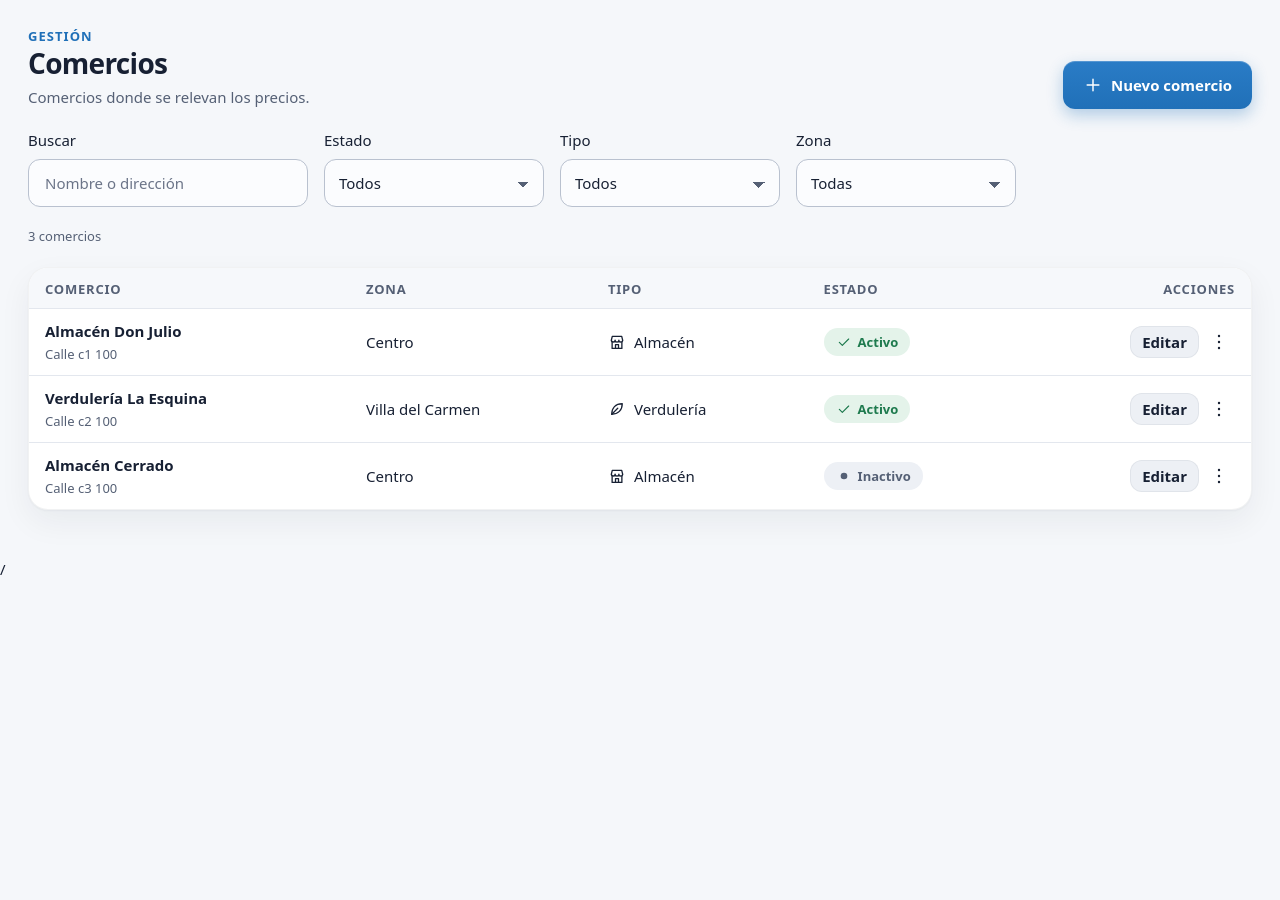
create and edit comercio › validates, creates and closes
Click the button "Nuevo comercio" at (1158, 85), box [1063,61,1252,109]
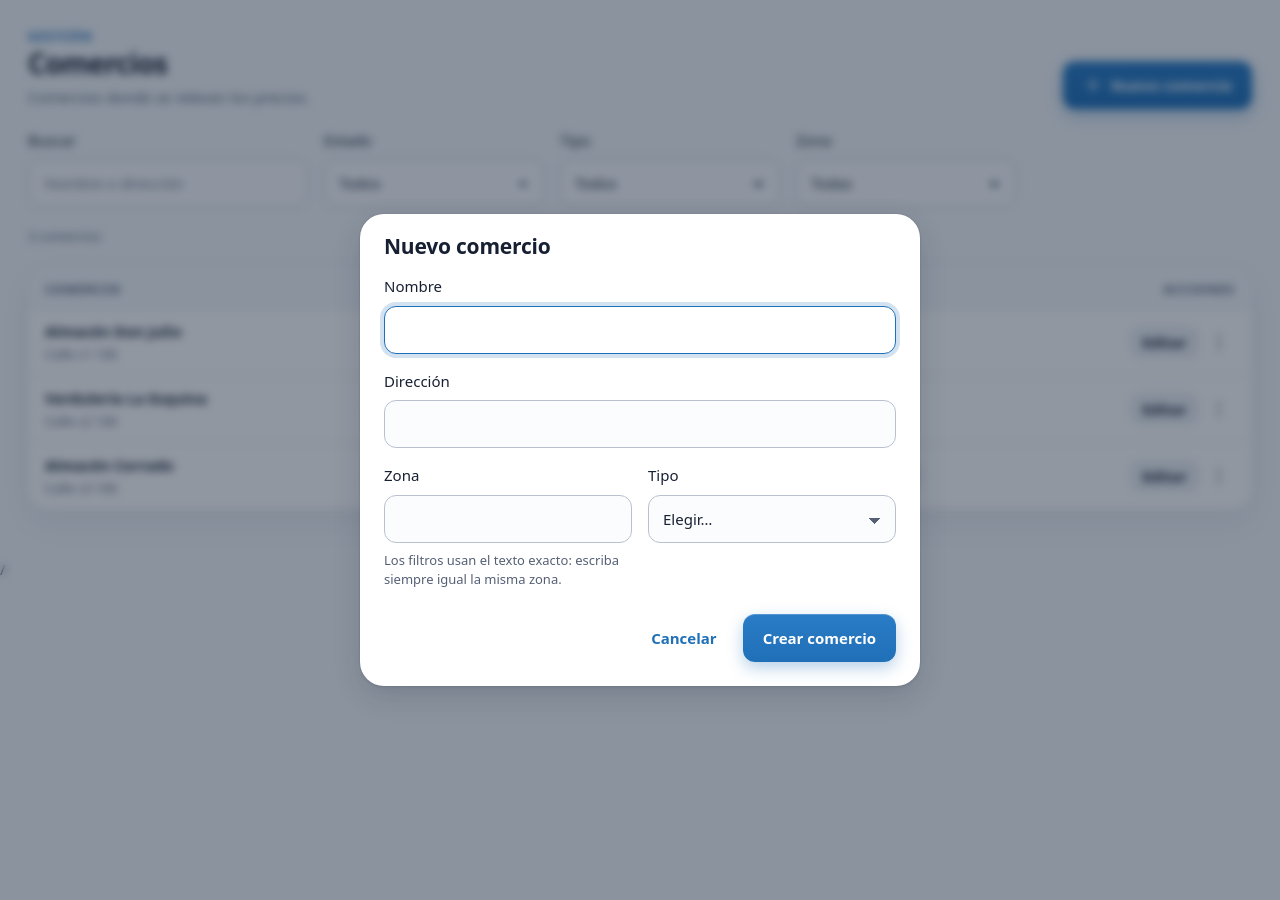
Click the button "Crear comercio" at (819, 638), box [743,614,896,662]
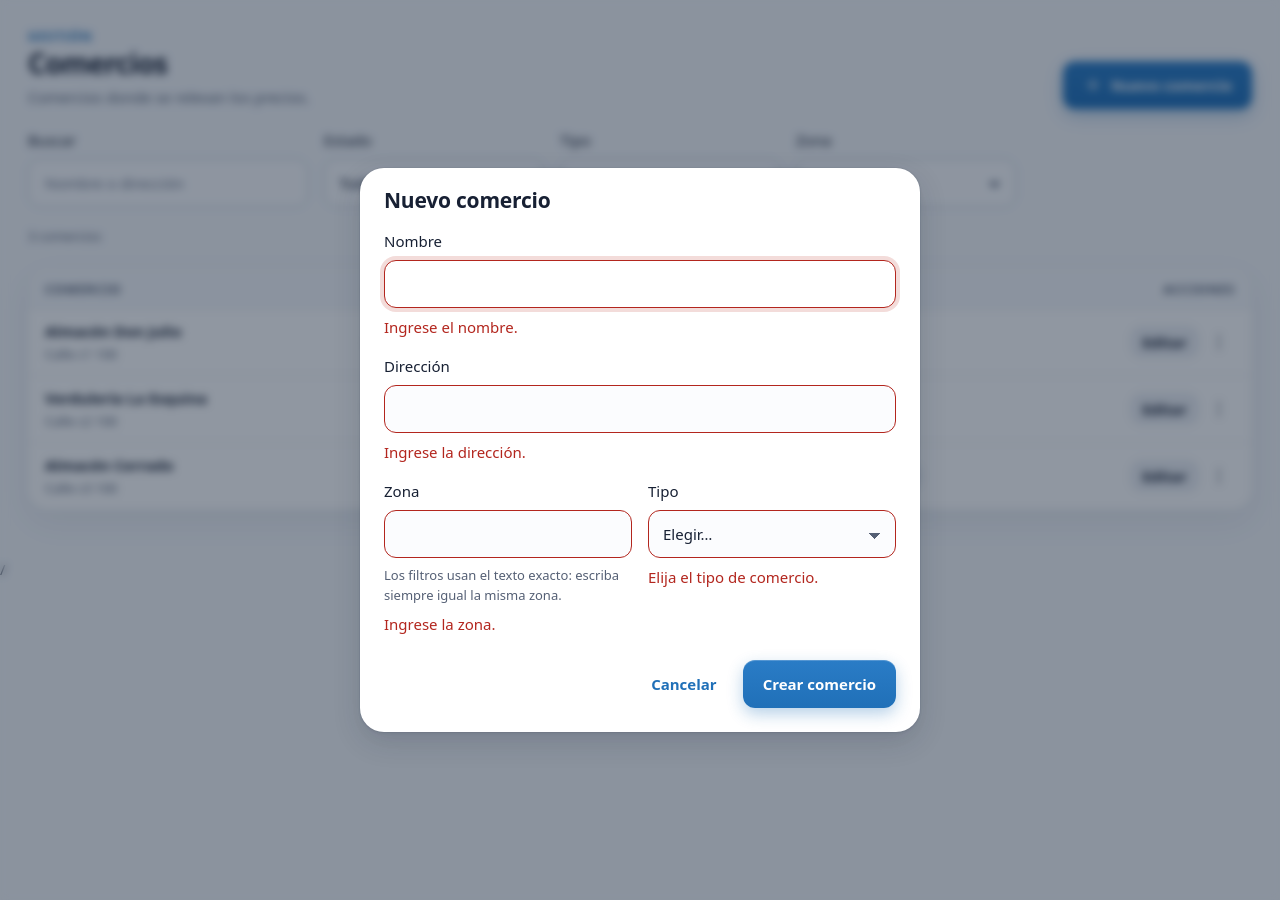
Expected: the text "Ingrese el nombre." is shown, [384,317,518,337]
Type " Kiosco Sur " into the field labelled "Nombre" at (640, 284), box [384,260,896,308]
Type "Sarmiento 10" into the field labelled "Dirección" at (640, 409), box [384,385,896,433]
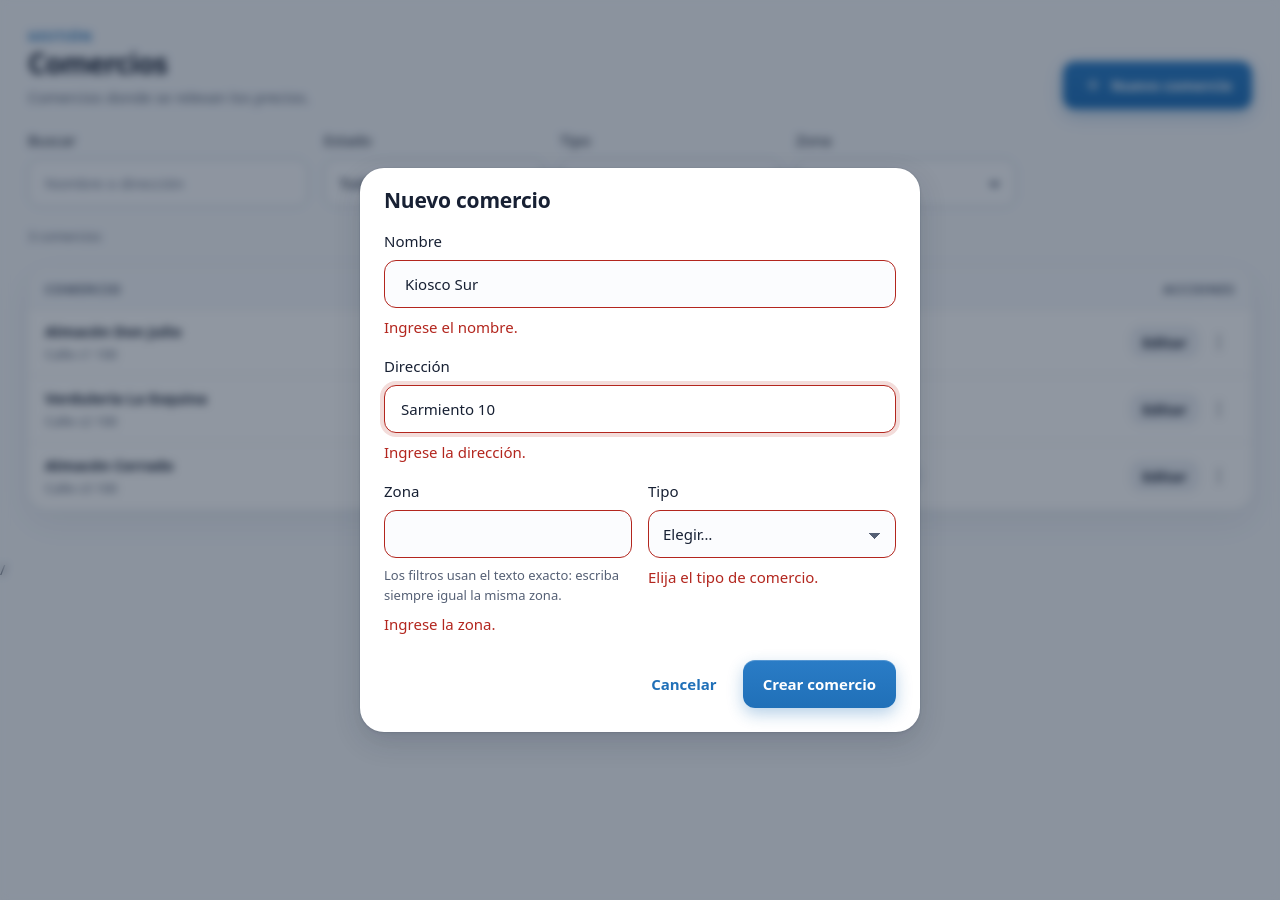
Type "Sur" into the field labelled "Zona" at (508, 534), box [384,510,632,558]
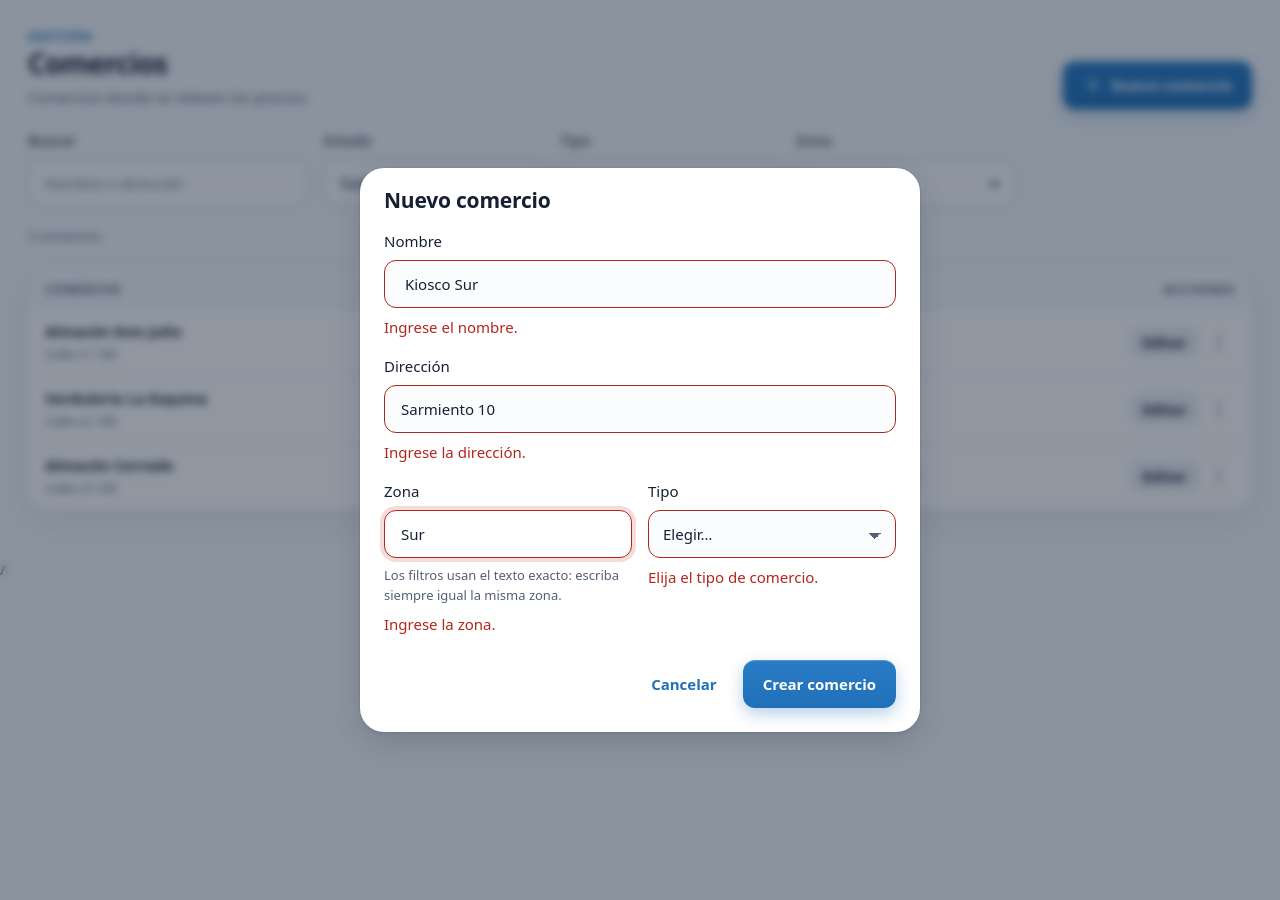
Select "Otro" in the dropdown labelled "Tipo" at (772, 534), box [648,510,896,558]
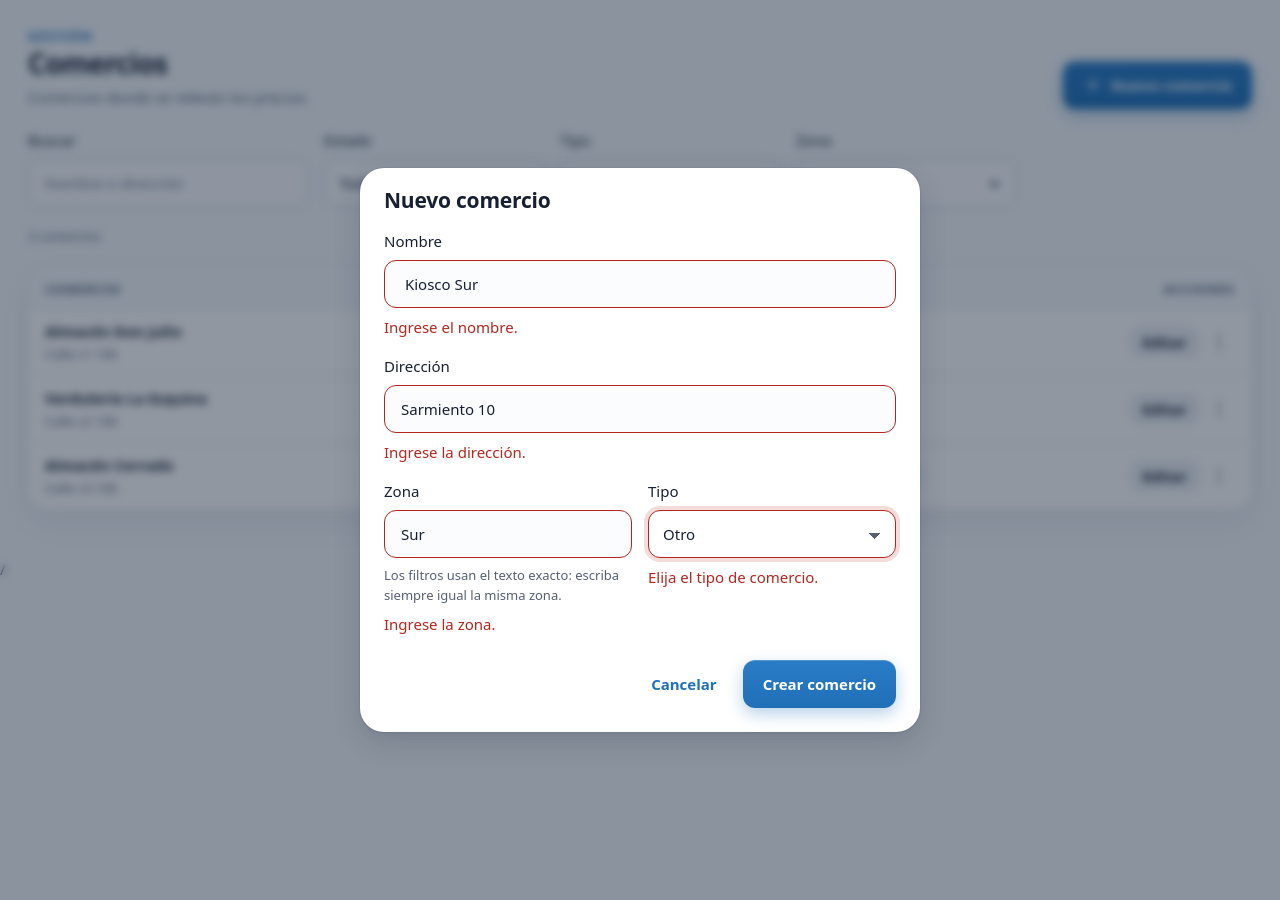
Click the button "Crear comercio" at (819, 684), box [743,660,896,708]
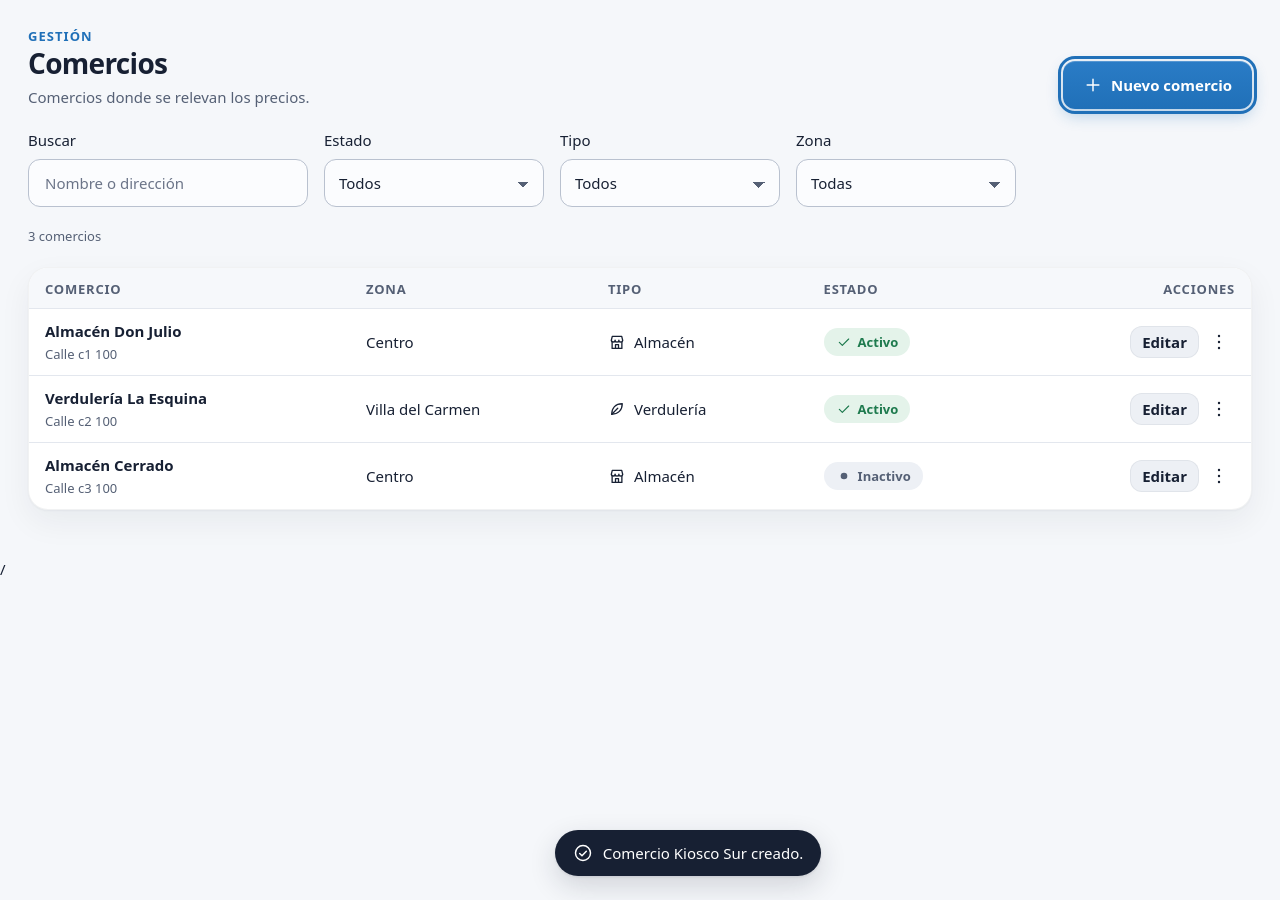
Expected: the dialog is gone
